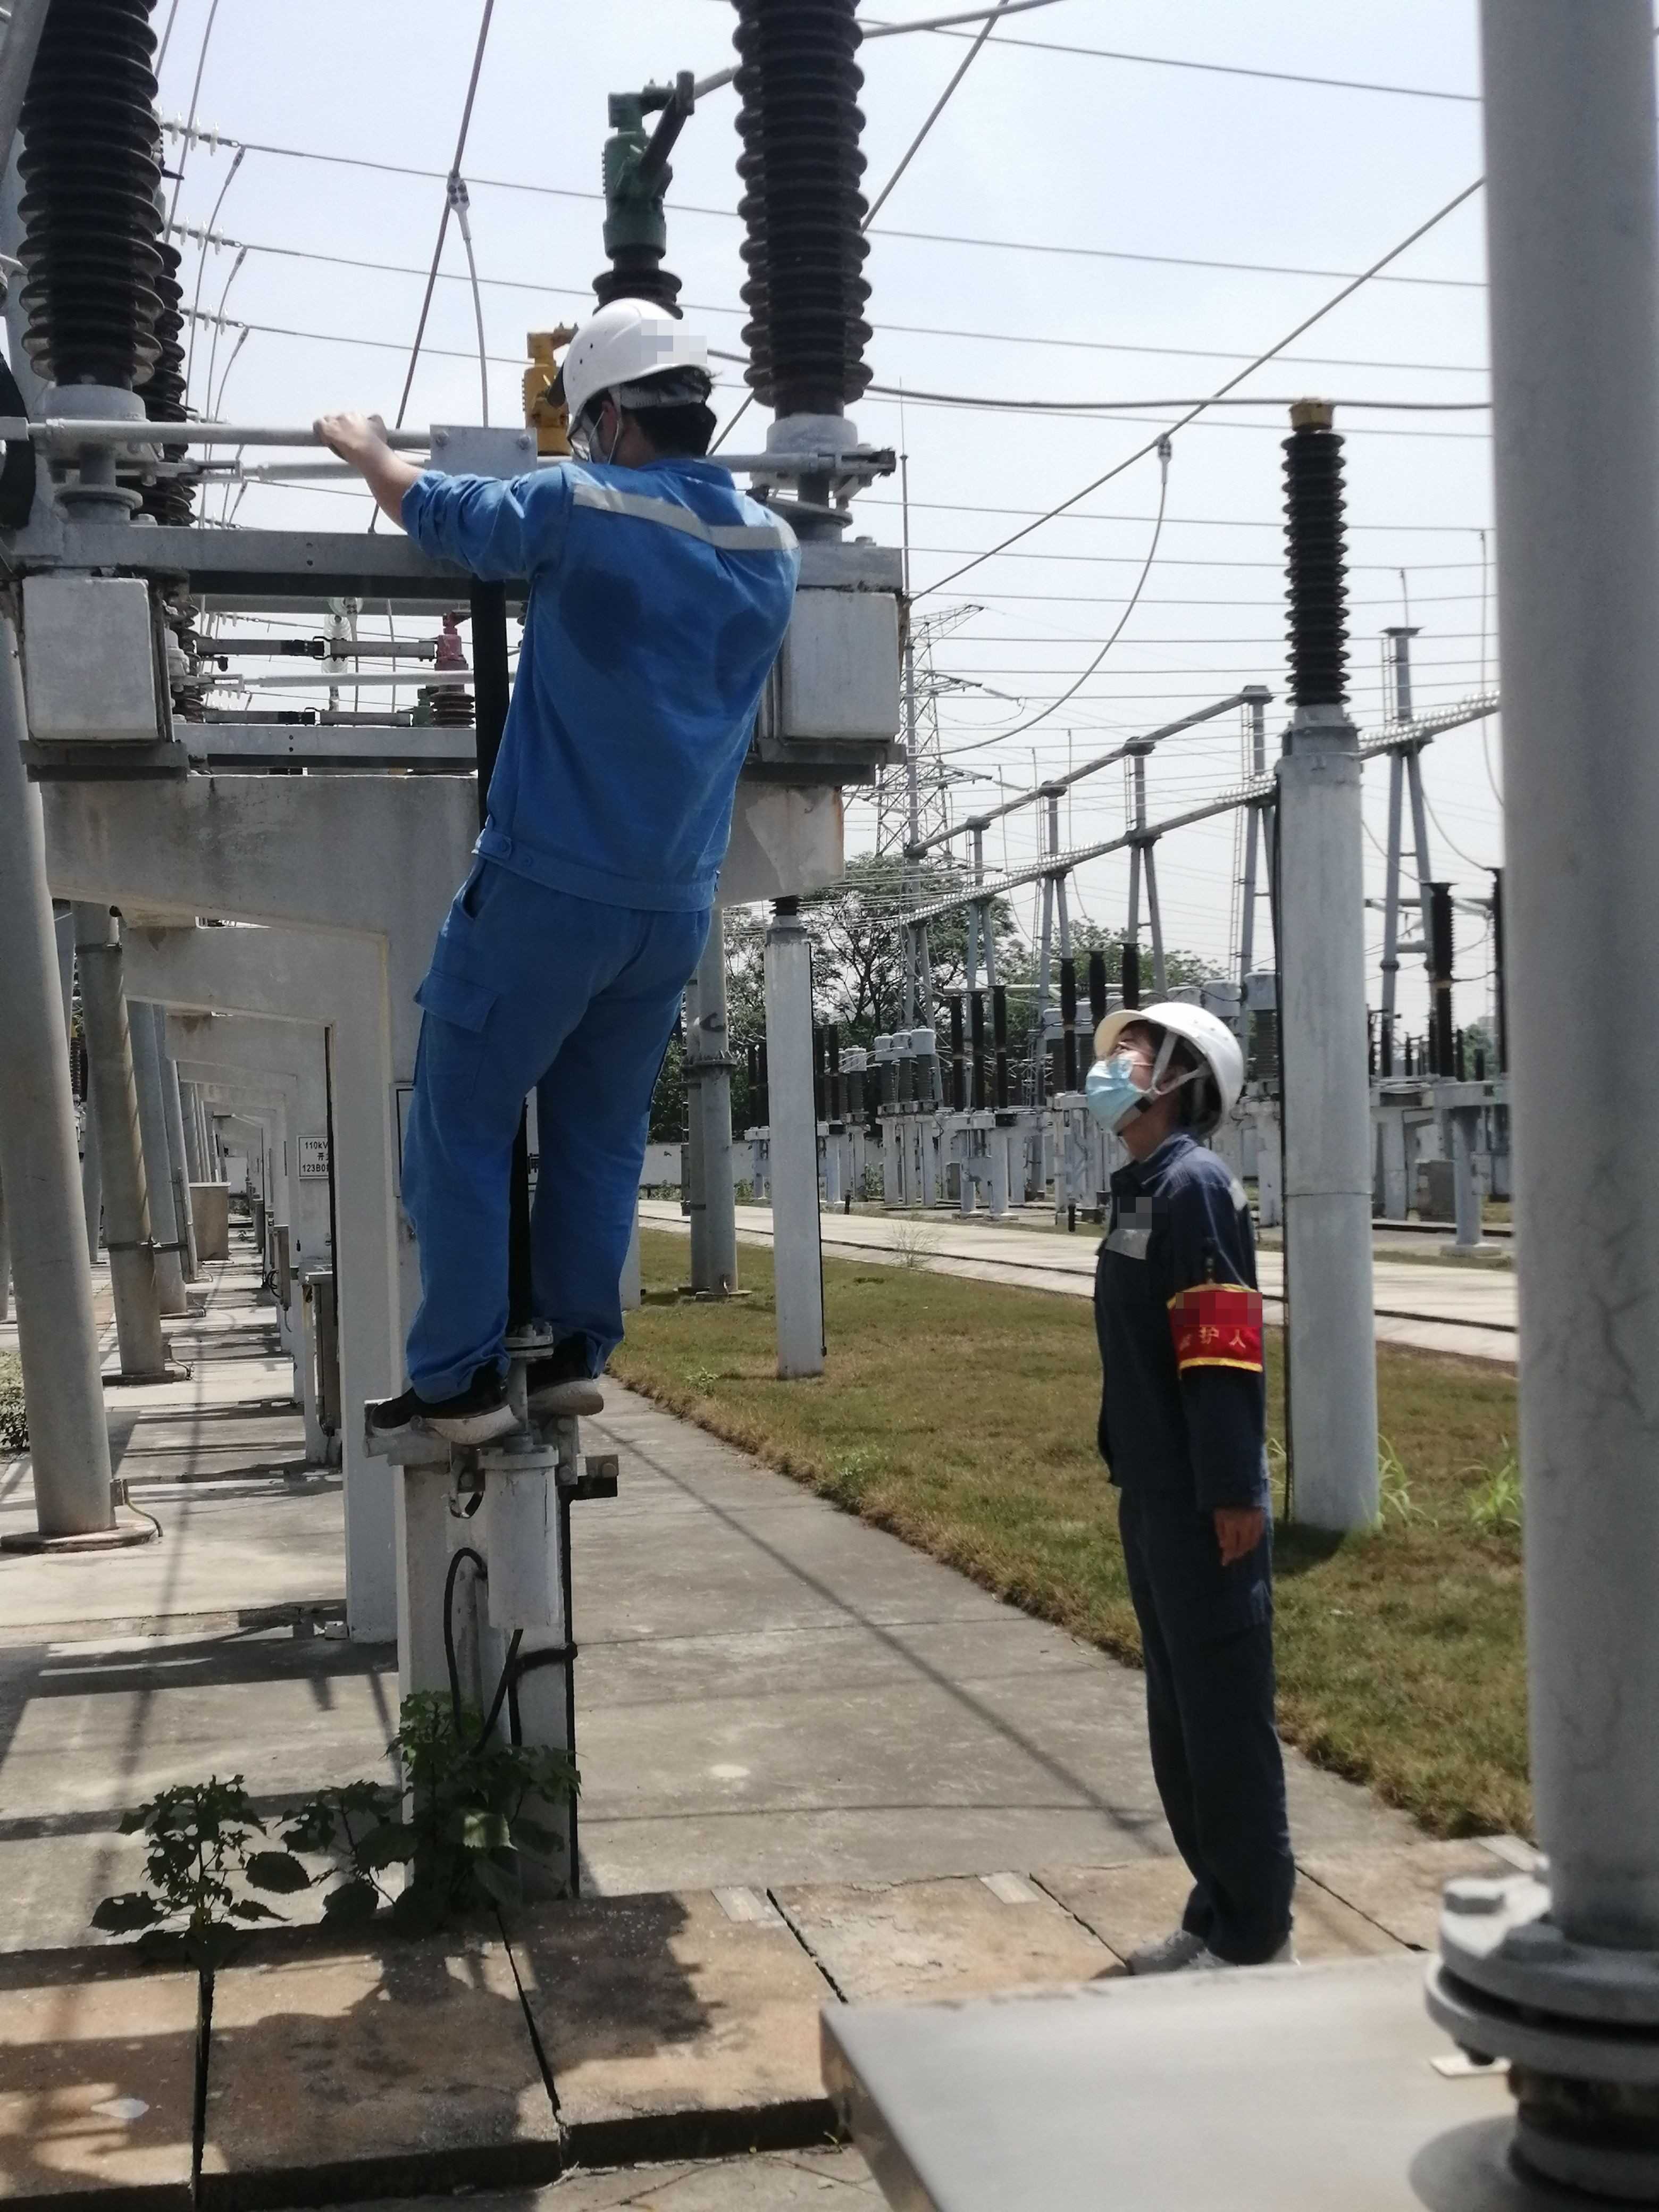downsuit: (389, 927, 714, 1386), (1124, 1521, 1298, 1930)
upsuit: (416, 451, 803, 900), (1096, 1143, 1265, 1498)
wrongtop: (314, 404, 444, 540)
